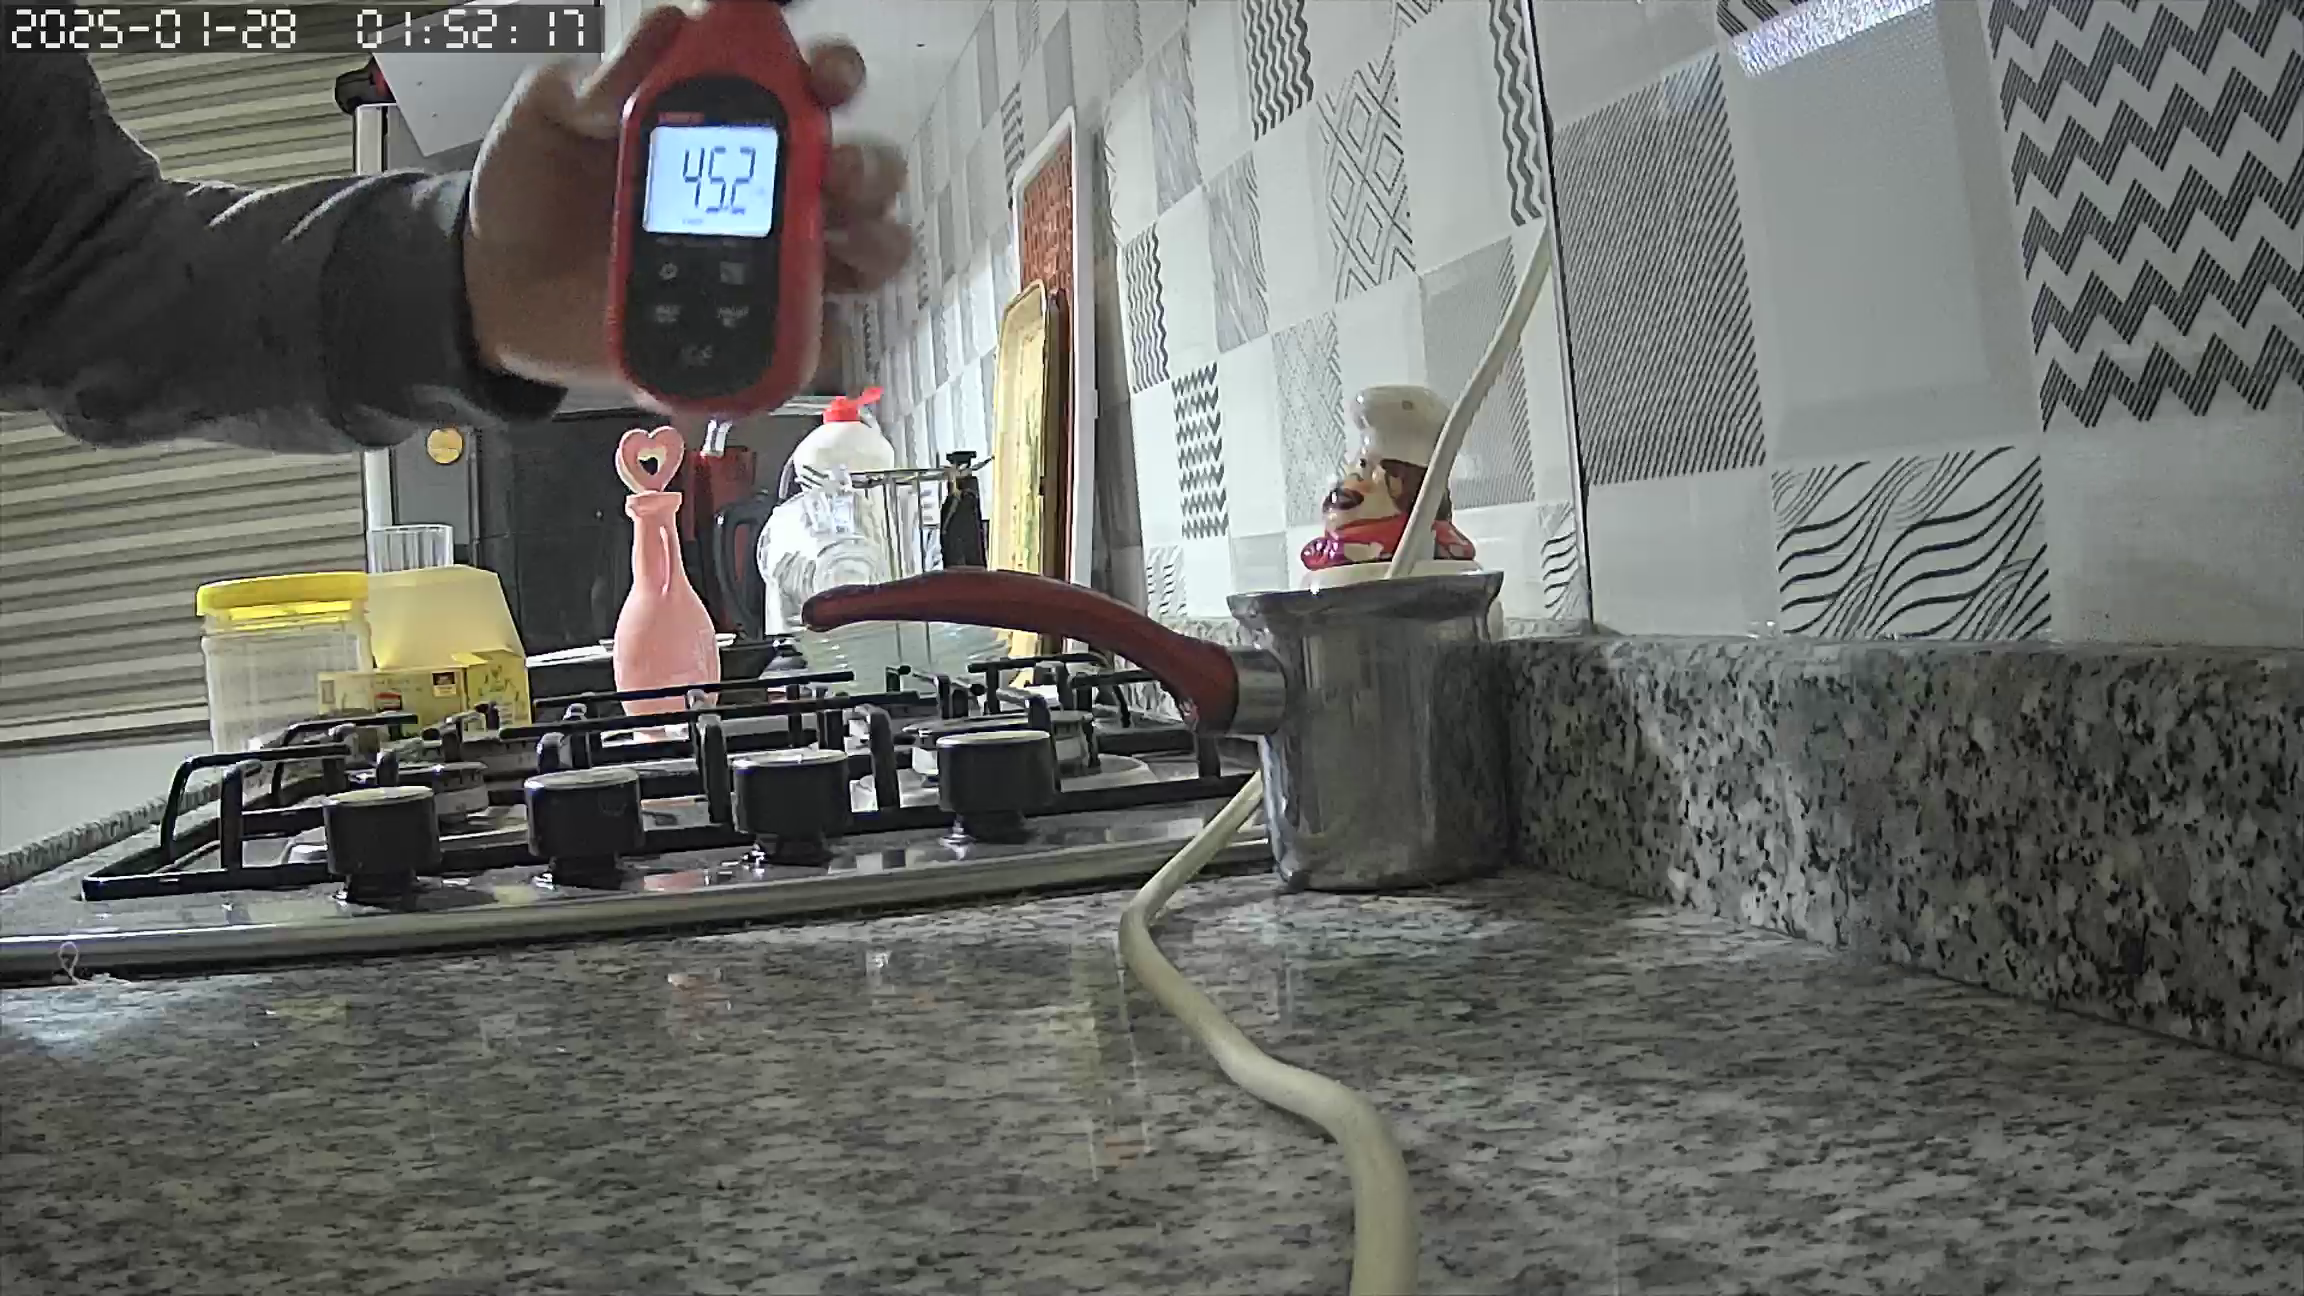screen: (639, 123, 780, 236)
